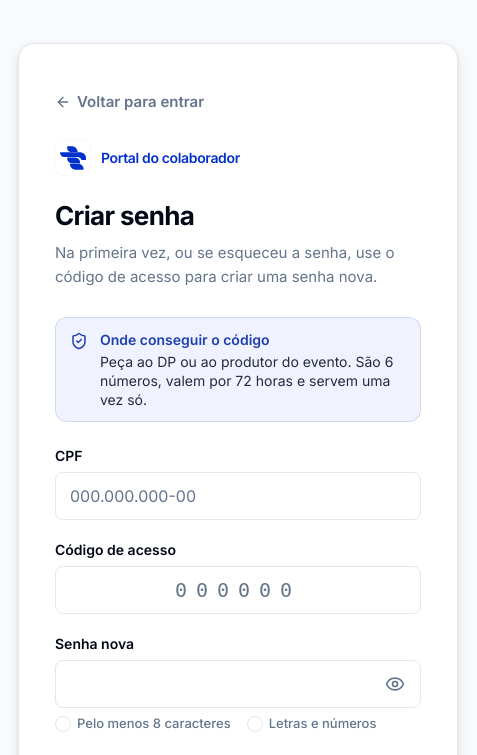
Primeiro acesso › senhas diferentes não enviam
Type "12345678901" into the field labelled "CPF" at [238, 496], box [55,472,421,520]
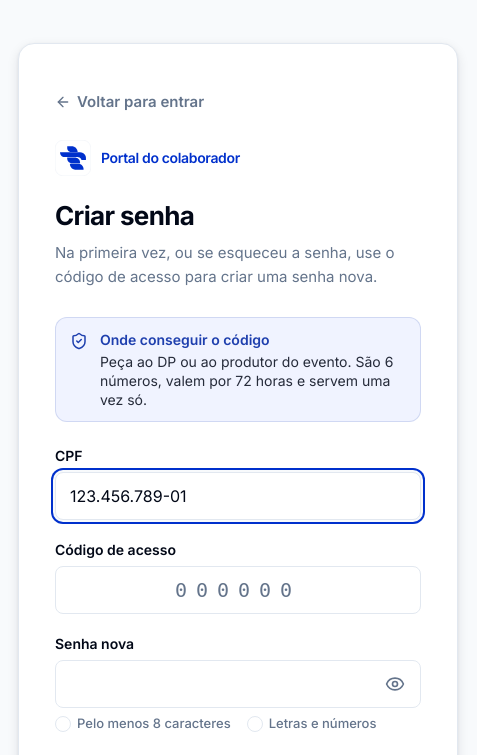
Type "123456" into the field labelled "Código de acesso" at [238, 590], box [55,566,421,614]
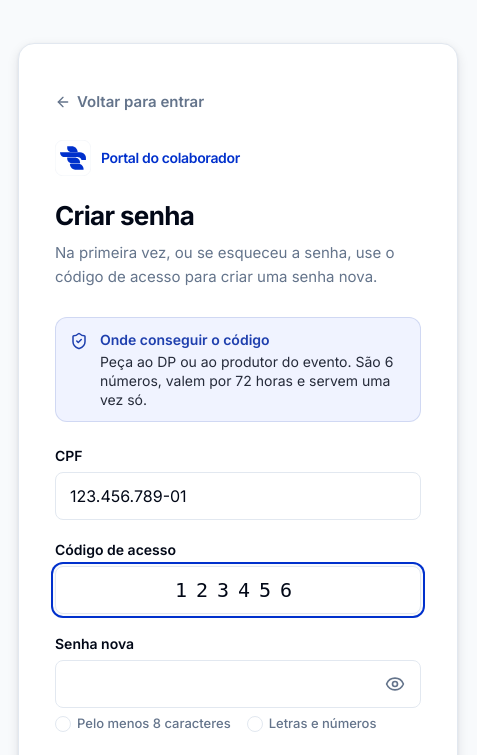
Type "abcdefg1" into the password field labelled "Senha nova" at [238, 684], box [55,660,421,708]
(page scrolled)
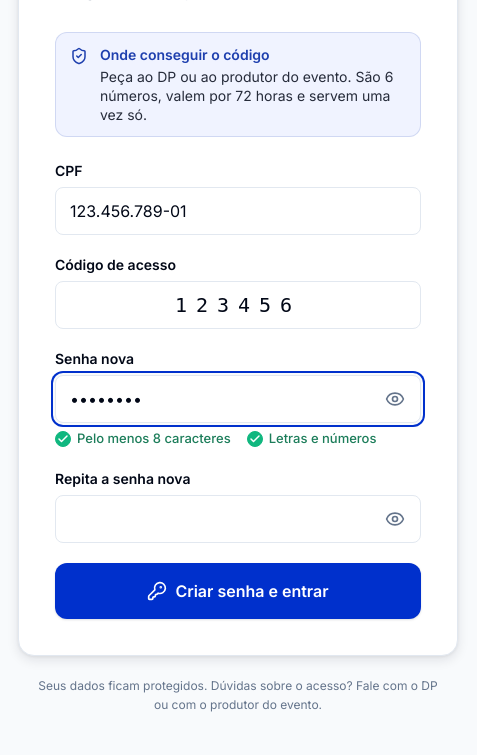
Type "abcdefg2" into the password field labelled "Repita a senha nova" at [238, 519], box [55,495,421,543]
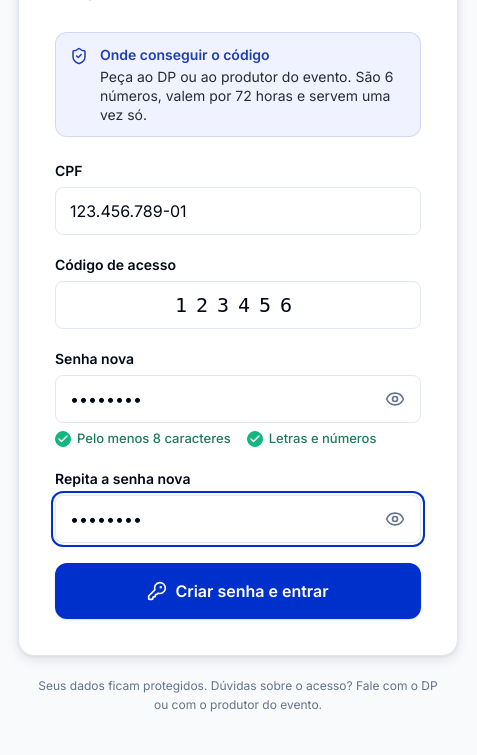
Click the button "Criar senha e entrar" at [238, 591], box [55,563,421,619]
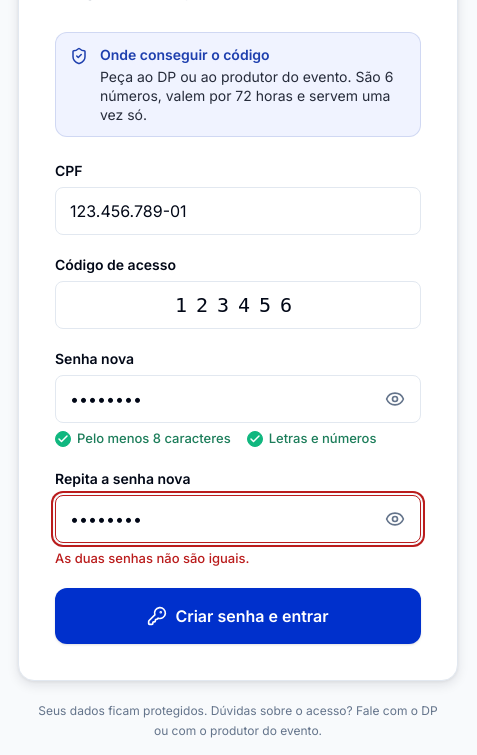
Expected: the text "As duas senhas não são iguais." is shown, [55,550,250,566]
